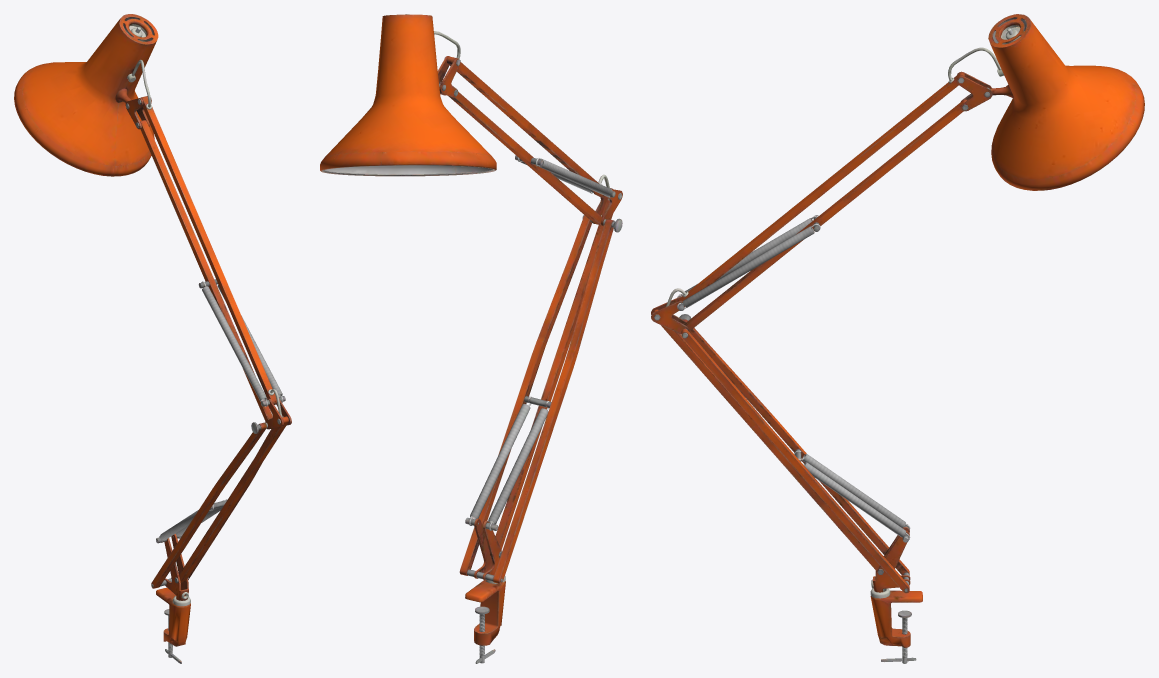
The model's file is desk-lamp.6168f70cee.glb.
3 views of the same model, side by side, from view 1: azimuth 30°, elevation 25°; view 2: azimuth 150°, elevation 25°; view 3: azimuth 270°, elevation 25° (orthographic). The views are drawn at different scales.
Visible parts, largest first — view 1: desk_lamp_arm_01; view 2: desk_lamp_arm_01; view 3: desk_lamp_arm_01.
Part boxes in pixels (x1,y1,x2,y2): desk_lamp_arm_01: [14, 14, 291, 663]; desk_lamp_arm_01: [320, 14, 622, 663]; desk_lamp_arm_01: [651, 14, 1144, 663].
Size of the model in its own units: 0.2017 by 0.8926 by 0.6139.
Materials: 2 (2 with a texture image).
